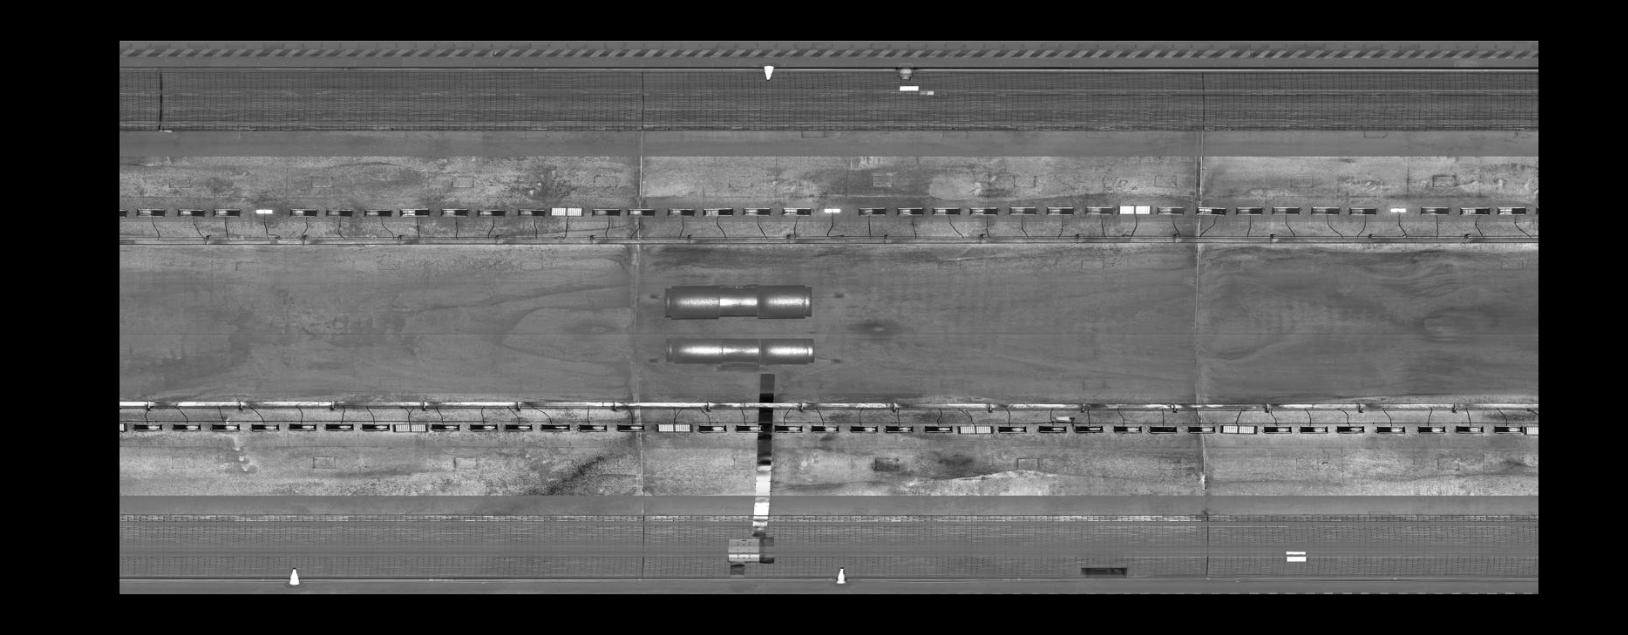light: (1080, 202, 1116, 217), (1218, 423, 1259, 436), (395, 206, 432, 220), (653, 421, 693, 434), (391, 421, 430, 434), (955, 423, 994, 436), (549, 205, 585, 219), (588, 205, 622, 219), (965, 204, 1001, 217), (1117, 203, 1154, 216), (1308, 203, 1341, 217), (1194, 204, 1229, 217), (1456, 205, 1494, 217), (437, 205, 469, 219), (700, 206, 736, 218), (134, 205, 167, 218), (474, 206, 508, 219), (625, 205, 658, 218), (1006, 204, 1039, 217), (1042, 204, 1076, 217), (1270, 204, 1303, 217), (881, 422, 915, 435), (920, 421, 953, 434), (1071, 422, 1105, 435), (1494, 205, 1529, 217), (129, 420, 164, 432), (211, 206, 243, 219), (361, 208, 394, 220), (664, 205, 697, 218), (739, 205, 774, 217), (929, 205, 964, 217), (1154, 204, 1188, 216), (1146, 423, 1181, 435), (1184, 422, 1218, 434), (515, 208, 548, 219), (359, 420, 392, 432), (732, 422, 765, 434), (1331, 423, 1367, 434), (1372, 424, 1408, 435), (1414, 424, 1450, 435), (322, 208, 354, 219), (894, 206, 926, 218), (1346, 205, 1378, 217), (771, 423, 804, 435), (284, 208, 320, 218), (1417, 205, 1453, 216), (1296, 424, 1331, 435), (1451, 423, 1487, 434), (1232, 204, 1264, 216), (247, 421, 281, 432), (286, 421, 320, 432), (322, 421, 356, 432), (780, 205, 813, 216), (615, 422, 648, 433), (808, 423, 841, 434), (995, 424, 1028, 435), (1034, 424, 1067, 435), (174, 208, 207, 218), (468, 421, 500, 432), (847, 423, 879, 434), (168, 422, 203, 432), (208, 422, 243, 432), (537, 422, 572, 432), (574, 422, 609, 432), (696, 423, 727, 434), (1261, 425, 1293, 436), (856, 206, 890, 216), (1110, 424, 1144, 434), (1490, 424, 1524, 434), (428, 422, 461, 432), (503, 422, 533, 432), (251, 206, 276, 216), (1385, 206, 1411, 215), (822, 206, 843, 215), (1524, 425, 1538, 435), (120, 205, 129, 219), (120, 419, 128, 434)
